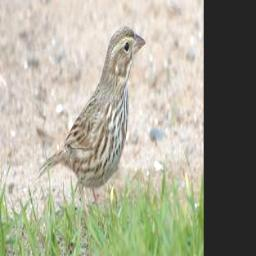Sparrow: (38, 18, 147, 248)
